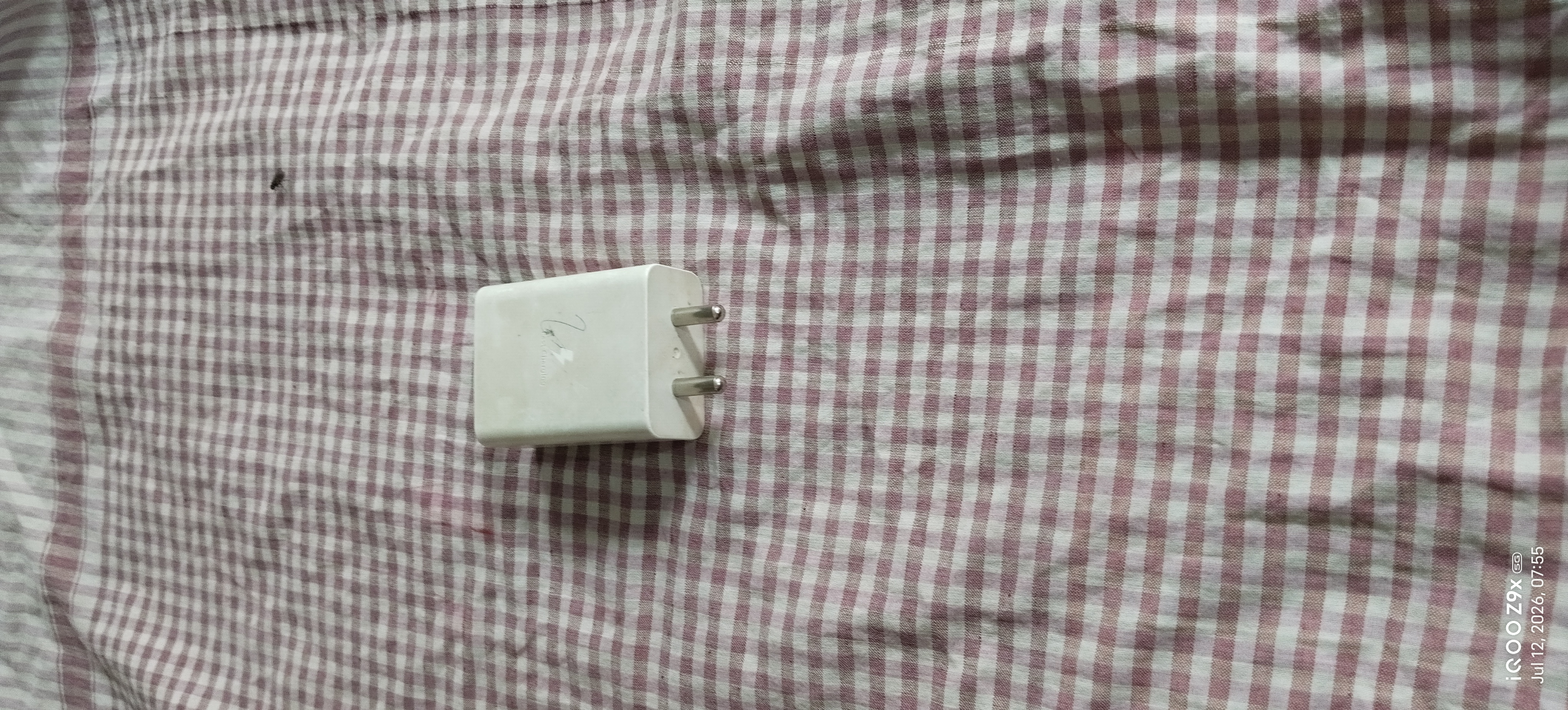charger: (452, 244, 760, 478)
